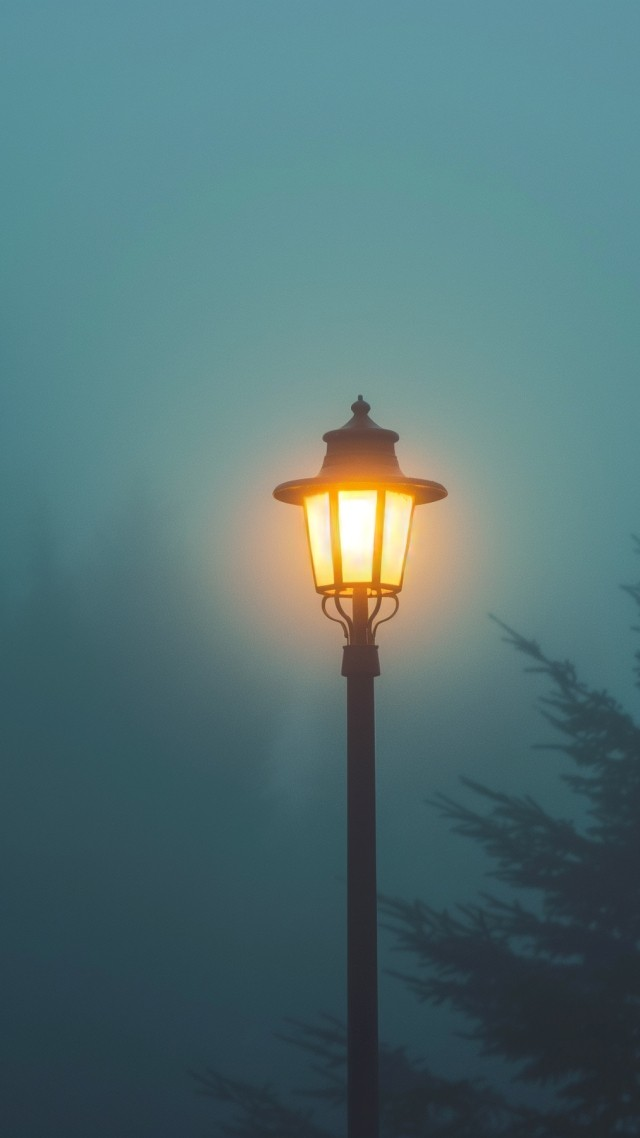Lamp: (260, 387, 472, 1138)
